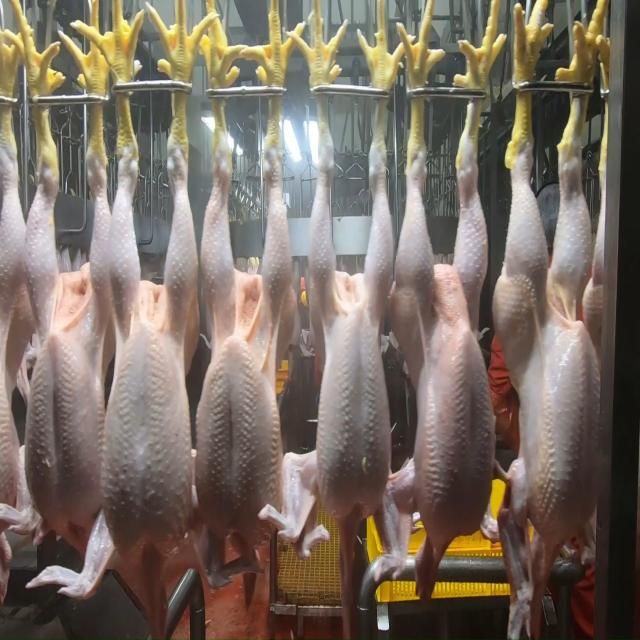chicken: (492, 172, 605, 543), (189, 189, 303, 526), (101, 177, 202, 531), (394, 180, 486, 548), (302, 189, 396, 523), (19, 183, 107, 530)
